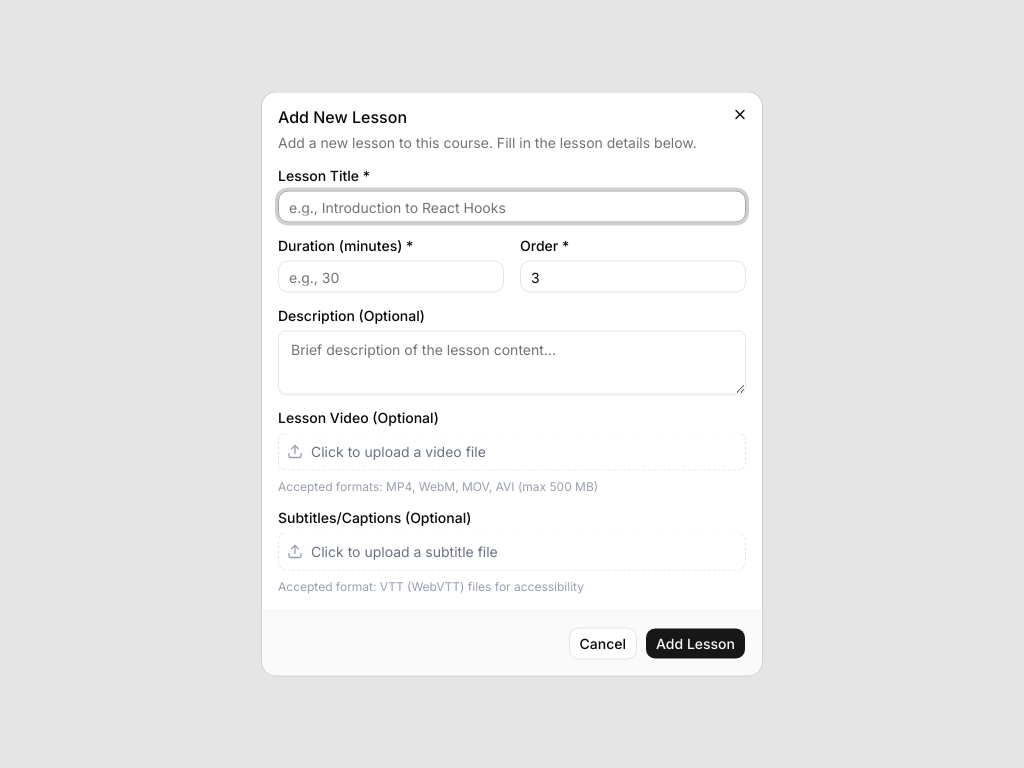
Test: AddLessonDialog › shows error message when create fails
Type "Fail Lesson" into the field labelled "Lesson Title *" at [512, 206], box 278,190 -> 746,222
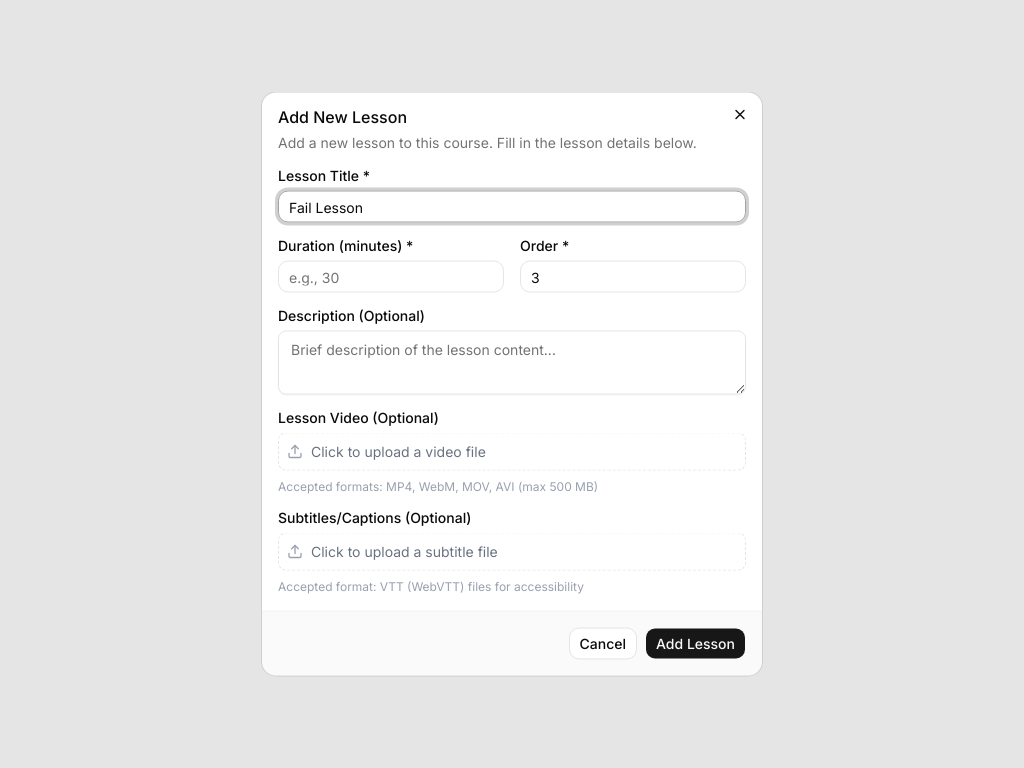
Type "10" into the number field labelled "Duration (minutes) *" at [391, 276], box 278,260 -> 504,292
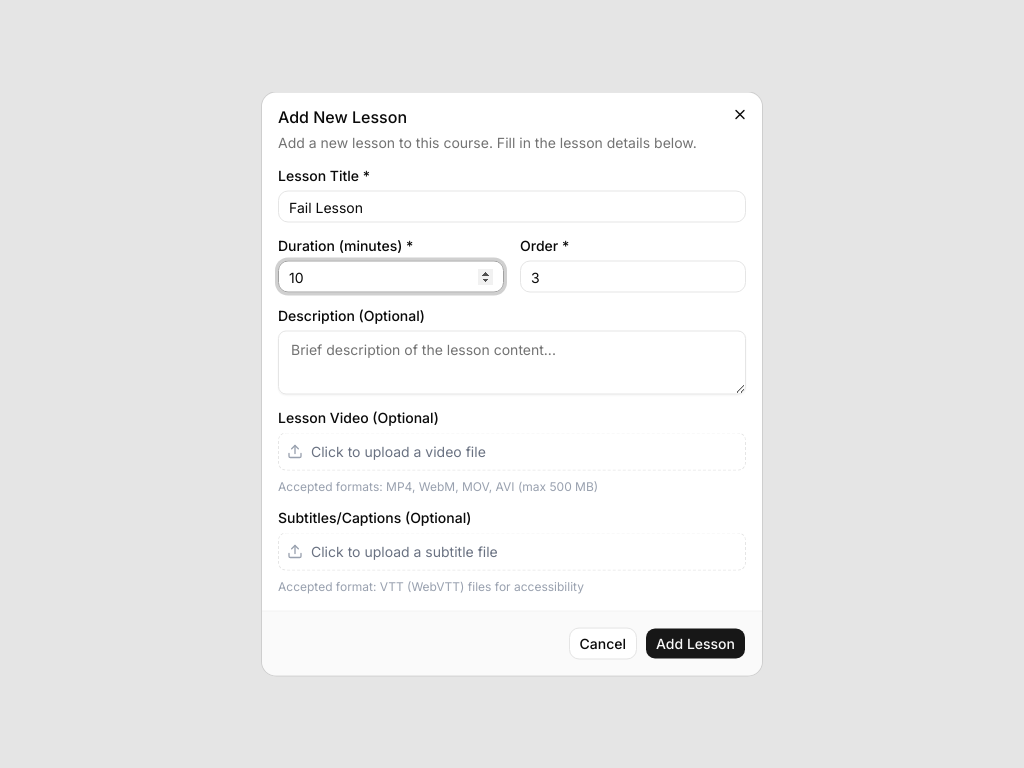
Click the button "Add Lesson" at [696, 644], box 645,628 -> 746,660
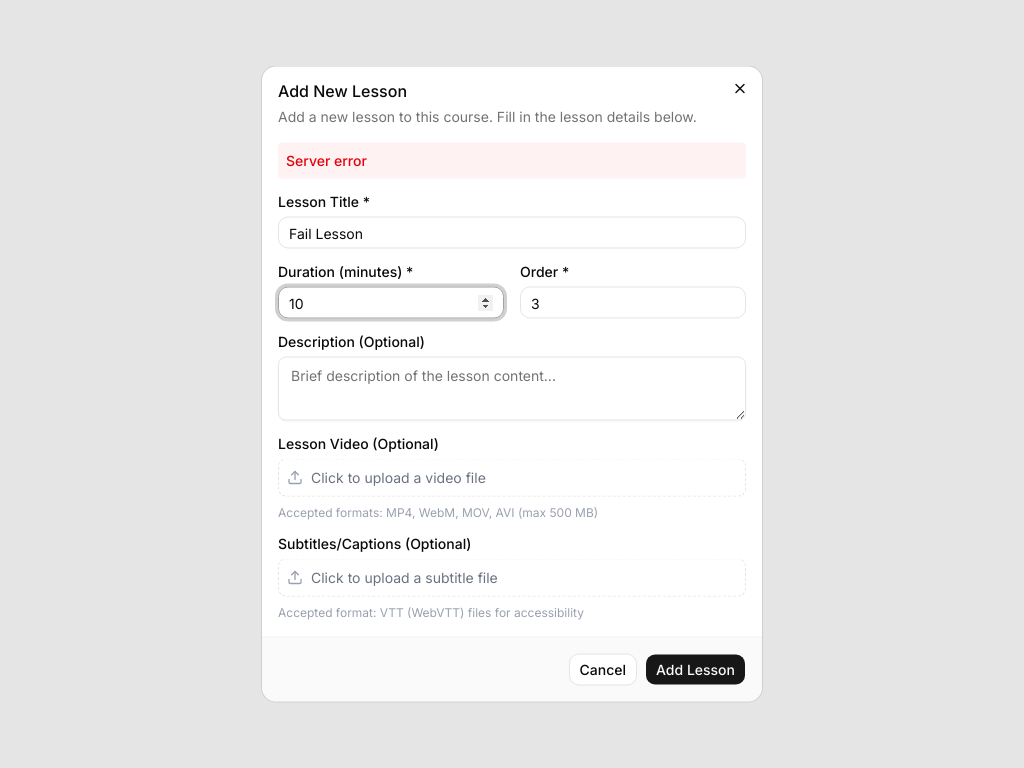
expect the text "Server error" is shown: met, box 278,142 -> 746,178
